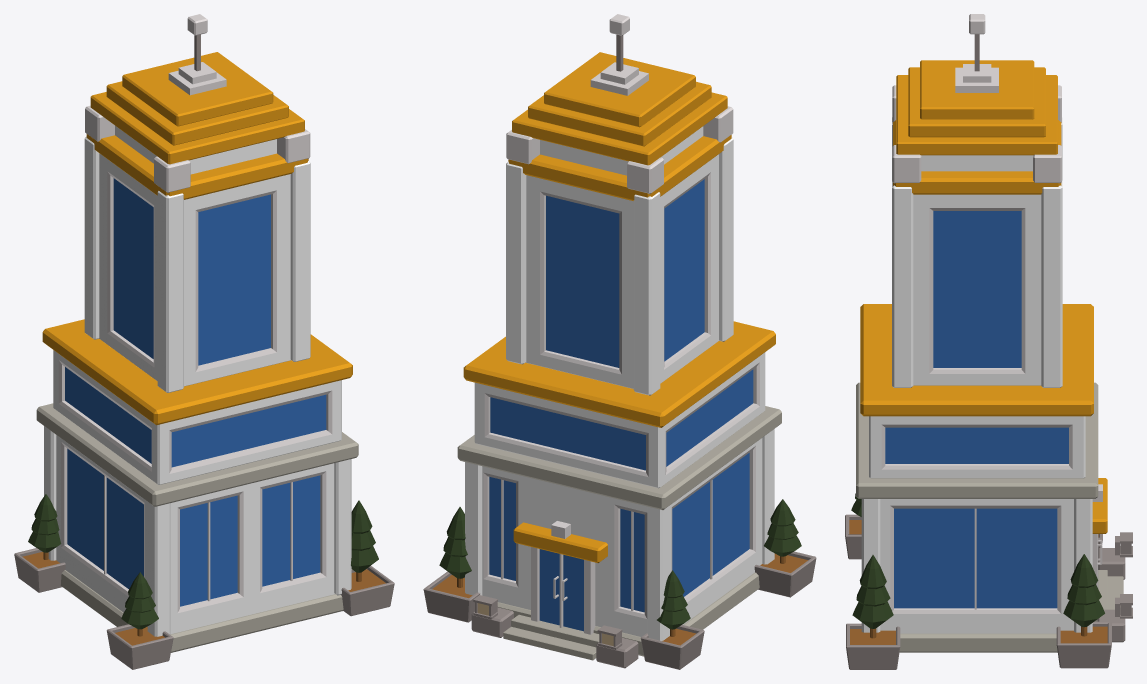
File: BGHigh001_JC.fbx
3 renders of one model, left to right at view 1: azimuth 30°, elevation 25°; view 2: azimuth 150°, elevation 25°; view 3: azimuth 270°, elevation 25°, orthographic. The views are drawn at different scales.
Parts seen in each view (by area): view 1: BGHigh001_JC; view 2: BGHigh001_JC; view 3: BGHigh001_JC.
Part boxes in pixels (x1,y1,x2,y2): BGHigh001_JC: [14, 14, 394, 669]; BGHigh001_JC: [423, 14, 816, 669]; BGHigh001_JC: [845, 14, 1132, 669].
Bounding box in the file's own units: 732 × 1522 × 675.
1 material, 1 textured.
